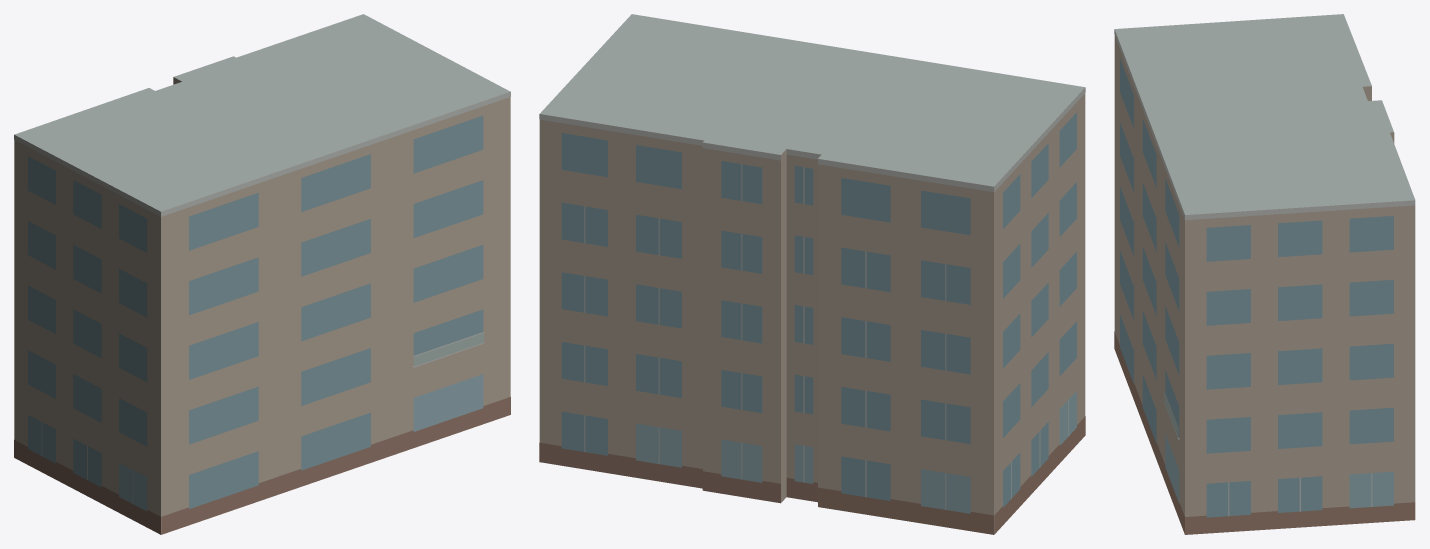
The model's file is survey-upis-32532933.glb.
3 renders of one model, left to right at view 1: azimuth 30°, elevation 25°; view 2: azimuth 150°, elevation 25°; view 3: azimuth 270°, elevation 25°, orthographic. The views are drawn at different scales.
Visible parts, largest first — view 1: survey-upis-32532933.tmp; view 2: survey-upis-32532933.tmp; view 3: survey-upis-32532933.tmp.
Part boxes in pixels (x1,y1,x2,y2): survey-upis-32532933.tmp: (14, 14, 510, 534); survey-upis-32532933.tmp: (539, 14, 1085, 534); survey-upis-32532933.tmp: (1114, 14, 1415, 534).
Bounding box in the file's own units: 20.71 × 15.35 × 13.1.
